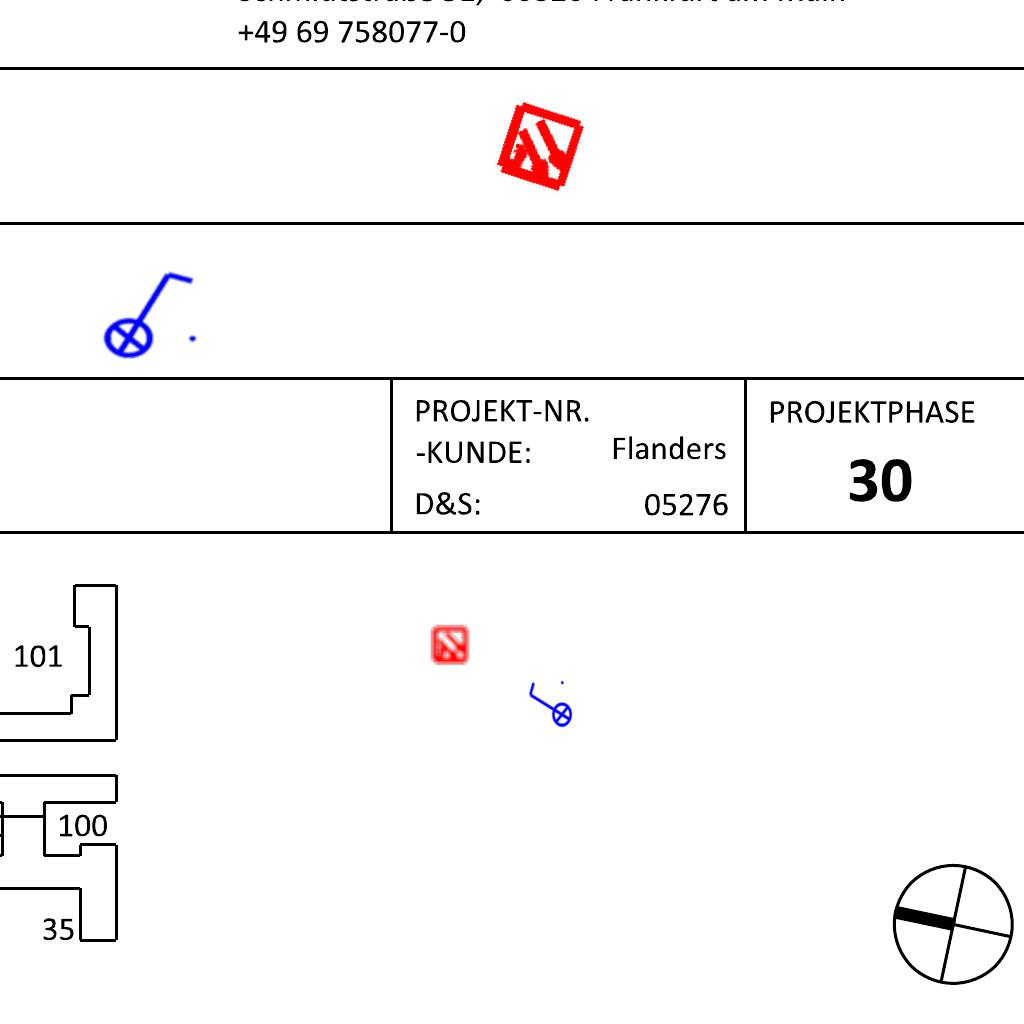Ausschalter_beleuchtet: (90, 264, 202, 360), (525, 678, 573, 734)
OT_Multisensormelder_(Kombination_RMO_WMD): (468, 77, 611, 220), (422, 618, 478, 674)
